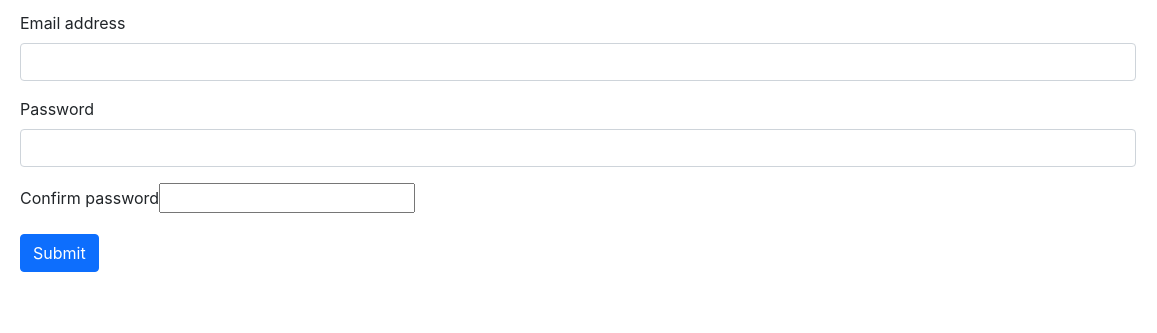
App › Error handling › should confirm password error if passwords don't match
Type "selena@gmail.com" into the field labelled "Email address" at {"x": 578, "y": 62}, box [20,43,1136,81]
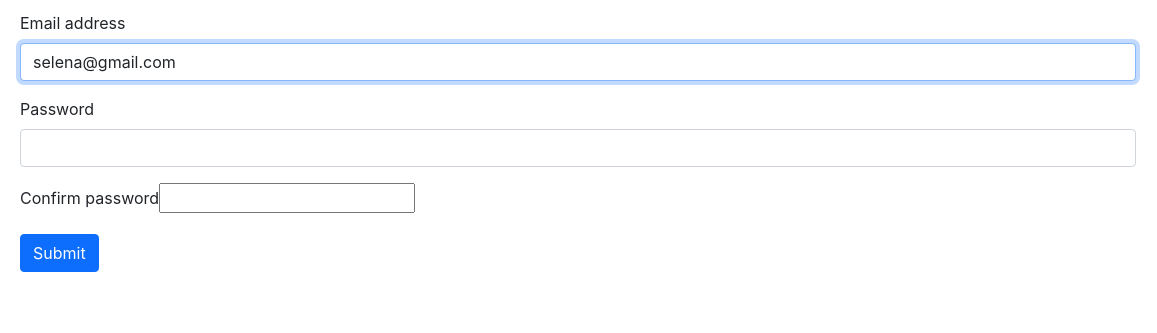
Type "12345" into the password field labelled "Password" at {"x": 578, "y": 148}, box [20,129,1136,167]
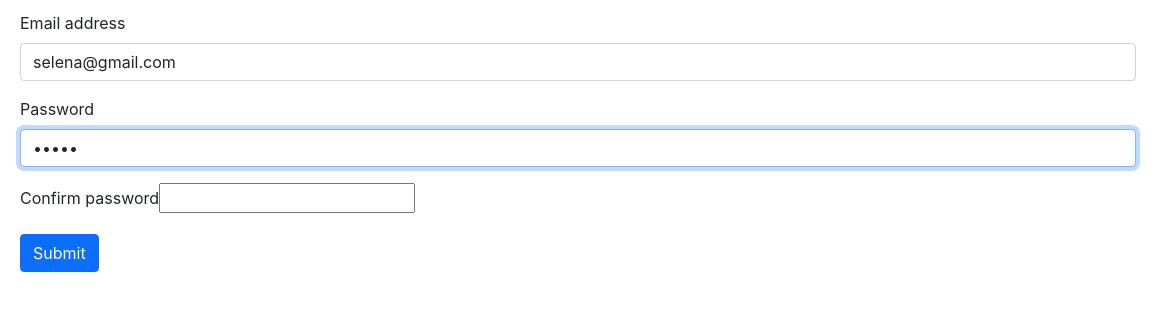
Expected: the text "the passwords don't match. try again" is not shown
Type "123456" into the password field labelled "Confirm password" at {"x": 287, "y": 198}, box [159,183,415,213]
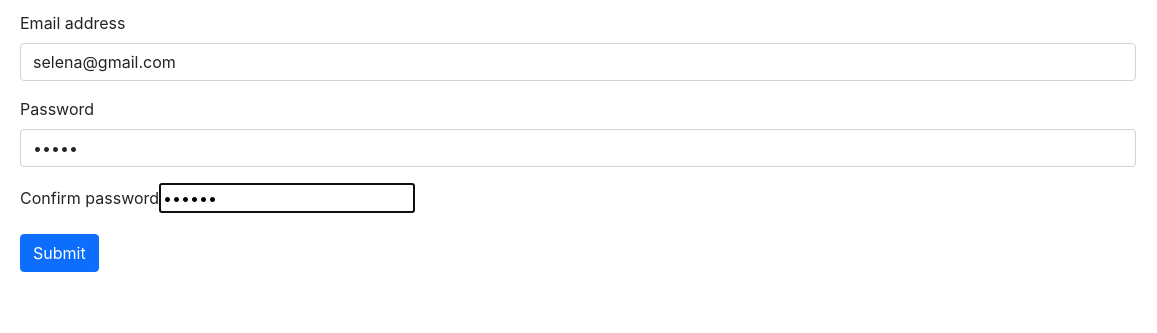
Click the button "Submit" at {"x": 59, "y": 253}, box [20,234,99,272]
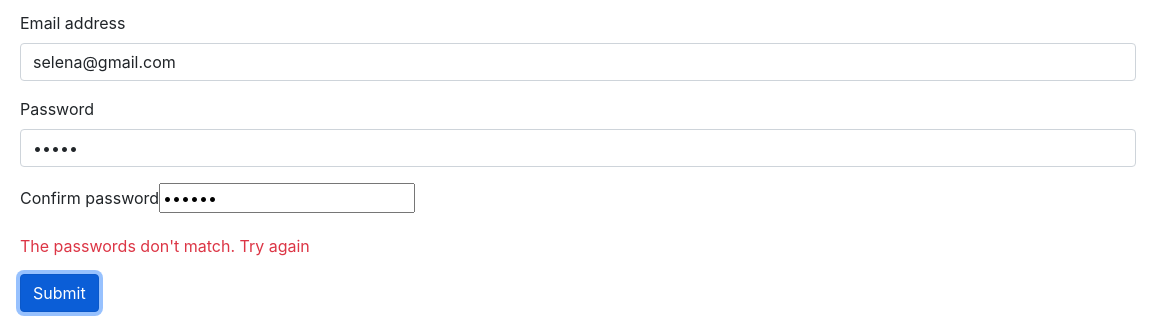
Now the text "The passwords don't match. Try again" is shown, box [20,236,310,256]
